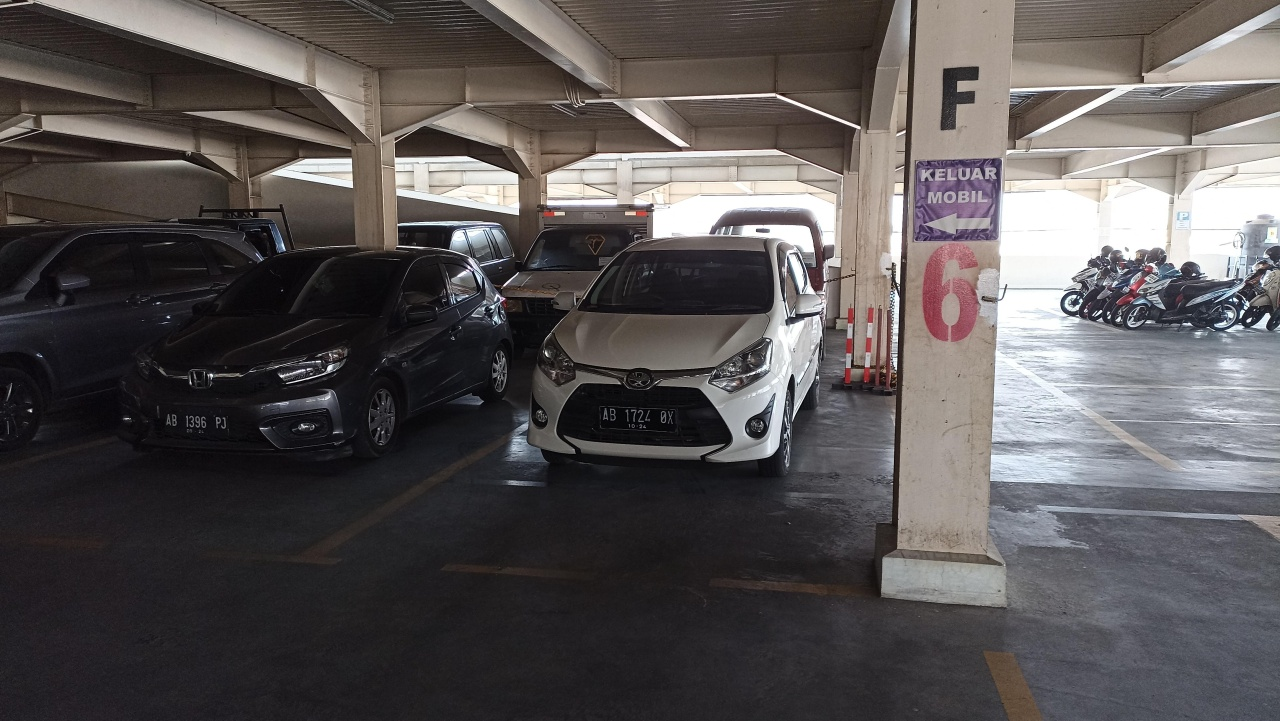plate: (599, 406, 676, 433)
